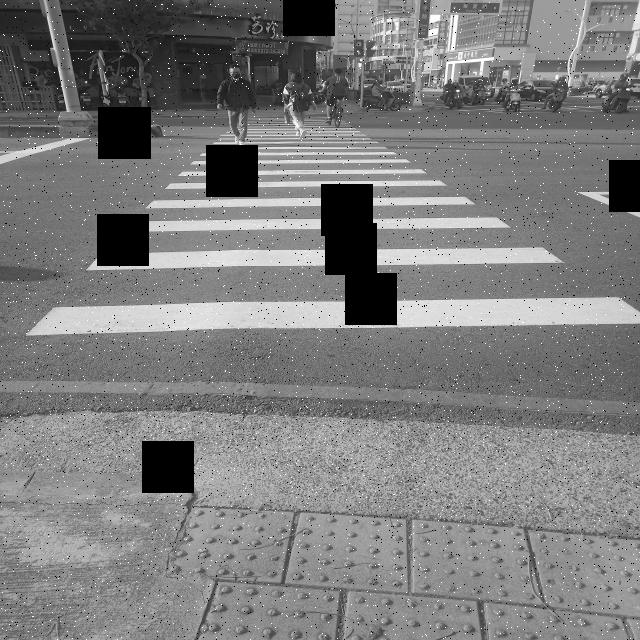person: (217, 66, 257, 148), (283, 72, 312, 138), (322, 68, 350, 125)
zebra crossing: (33, 120, 640, 334)
